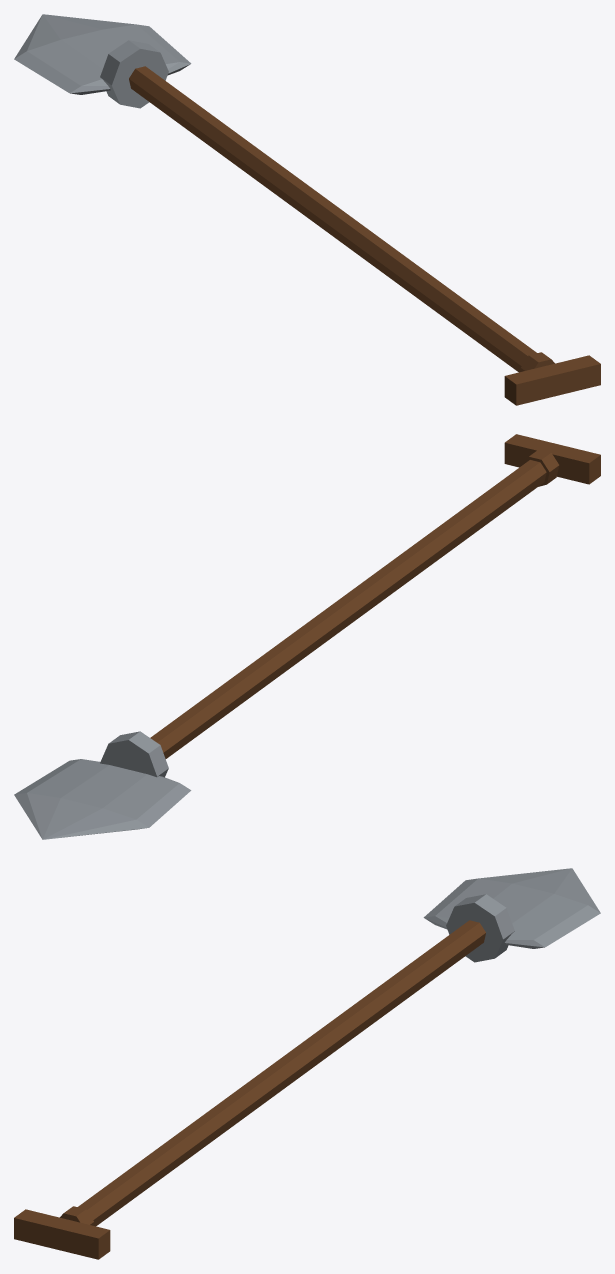
Rendered from Tool_Shovel_Iron.fbx.
3 views of the same model, one above another, from view 1: azimuth 30°, elevation 25°; view 2: azimuth 150°, elevation 25°; view 3: azimuth 330°, elevation 25° (orthographic).
Parts seen in each view (by area): view 1: Tool_Shovel_Iron; view 2: Tool_Shovel_Iron; view 3: Tool_Shovel_Iron.
Part boxes in pixels (left/top/right/bottom): Tool_Shovel_Iron: left=14, top=14, right=600, bottom=405; Tool_Shovel_Iron: left=14, top=434, right=600, bottom=839; Tool_Shovel_Iron: left=14, top=868, right=600, bottom=1259.
Size of the model in its own units: 0.08 by 0.0338 by 0.528.
